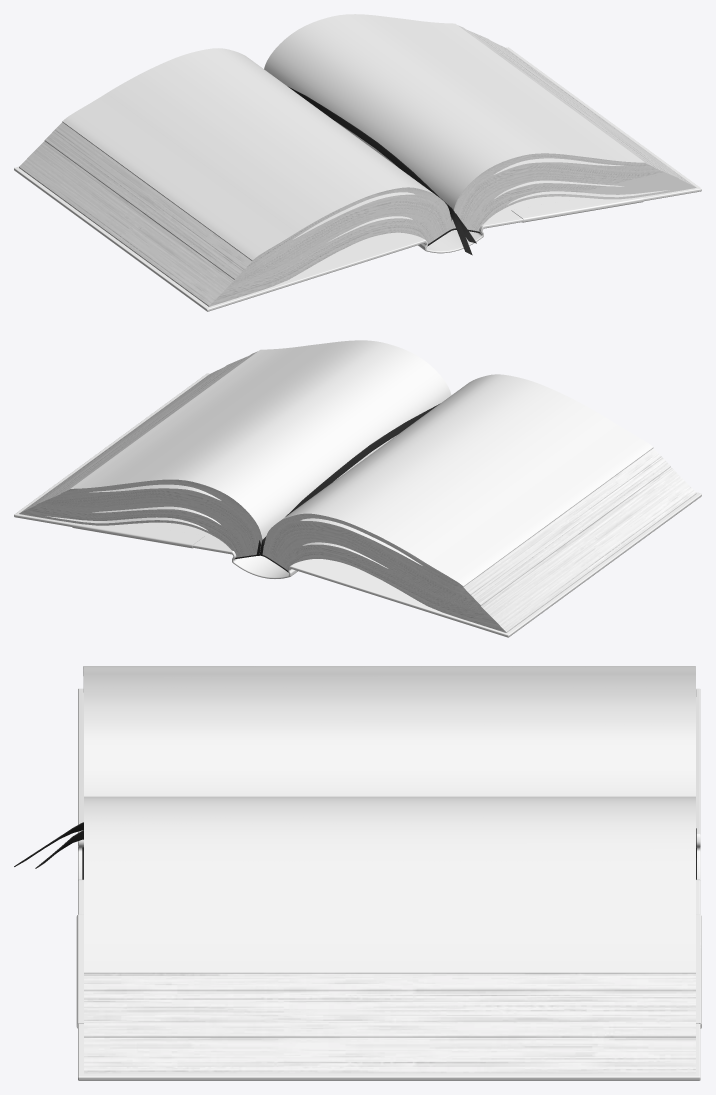
File: content.glb
The picture shows the model from 3 angles, top to bottom: view 1: azimuth 30°, elevation 25°; view 2: azimuth 150°, elevation 25°; view 3: azimuth 270°, elevation 25°; orthographic projection. The views are drawn at different scales.
Parts seen in each view (by area): view 1: _gltfNode_0.001, _gltfNode_0.002; view 2: _gltfNode_0.001, _gltfNode_0.002; view 3: _gltfNode_0.001, _gltfNode_0.002.
Boxes of the visible parts, x1=… form: _gltfNode_0.001: x1=19, y1=14, x2=696, y2=306; _gltfNode_0.002: x1=14, y1=47, x2=701, y2=311; _gltfNode_0.001: x1=19, y1=340, x2=696, y2=632; _gltfNode_0.002: x1=14, y1=373, x2=701, y2=637; _gltfNode_0.001: x1=14, y1=666, x2=701, y2=1073; _gltfNode_0.002: x1=78, y1=688, x2=700, y2=1080.
Bounding box in the file's own units: 42.49 × 6.38 × 31.78.
2 materials, 1 textured.
